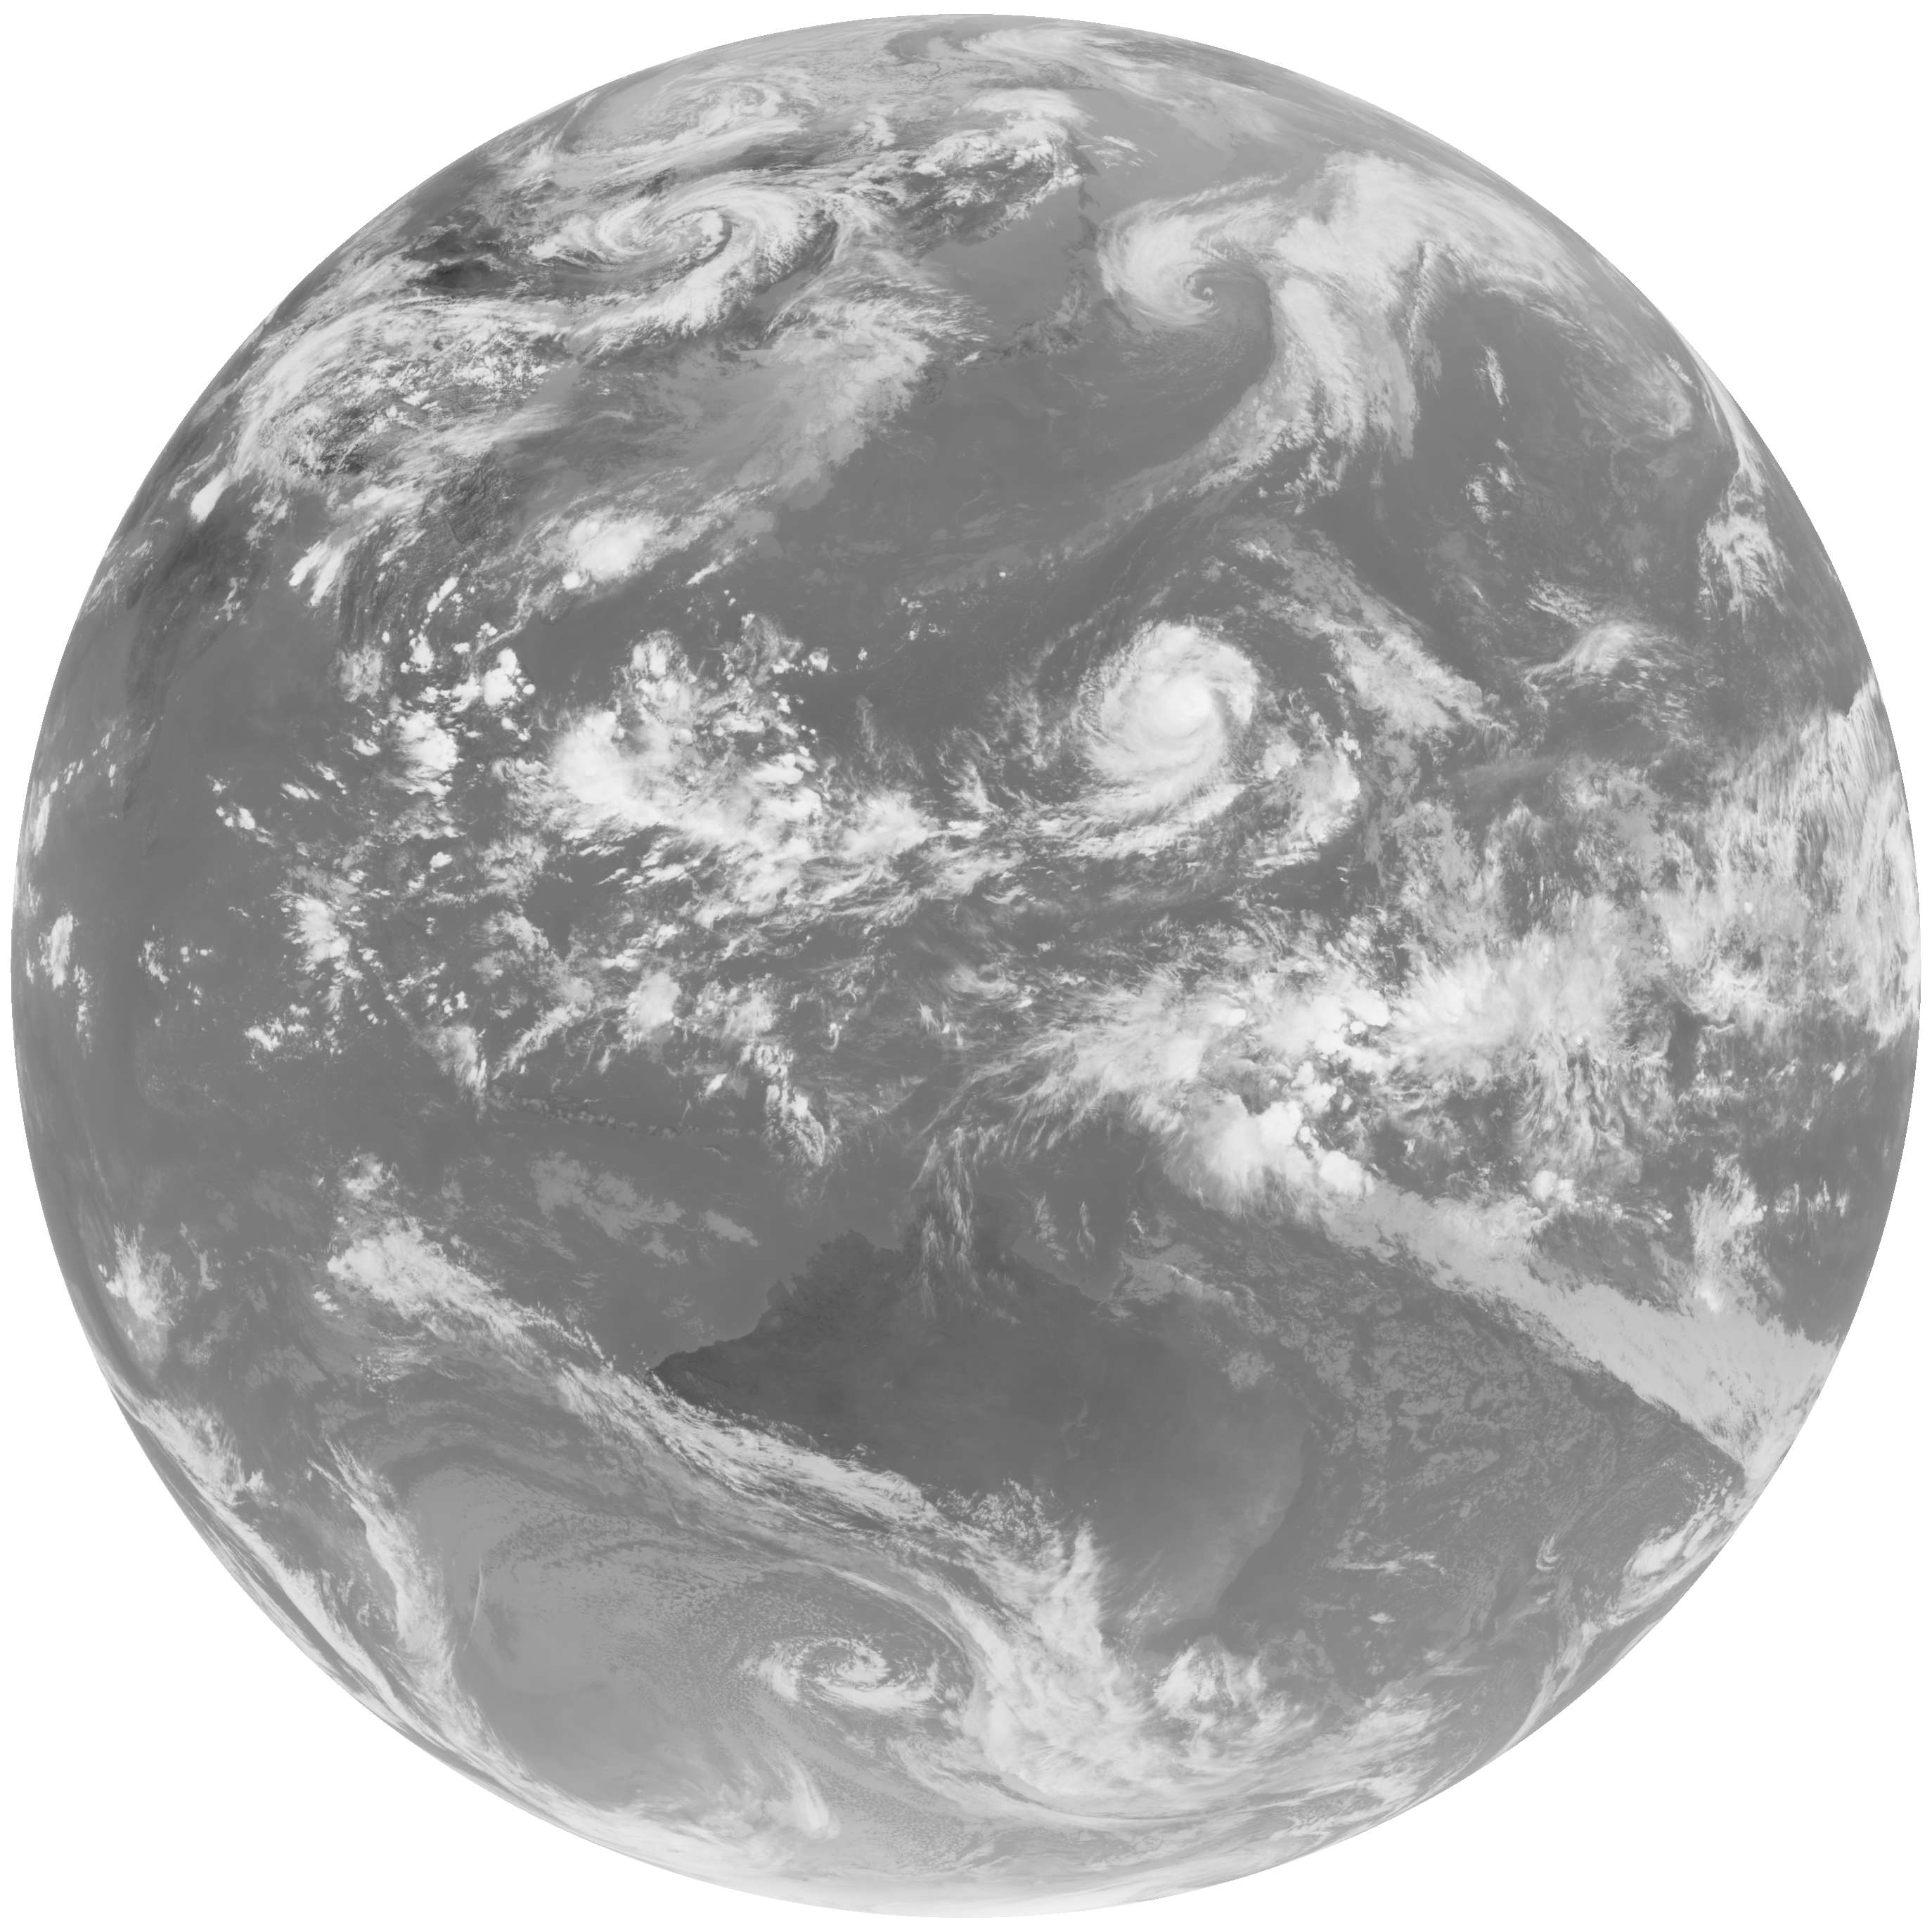typhoon: (888, 579, 1399, 913)
